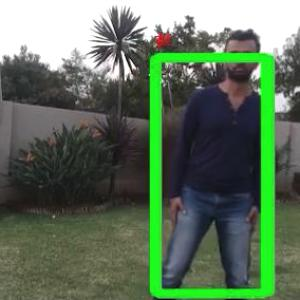follow: (165, 35, 267, 299)
